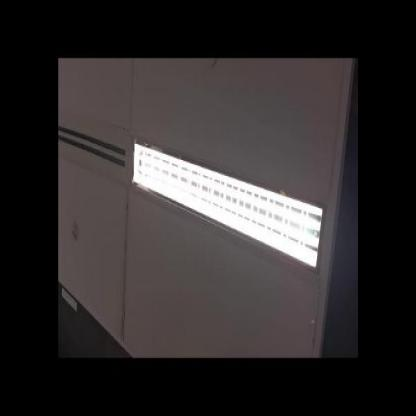light_on: (122, 131, 324, 281)
